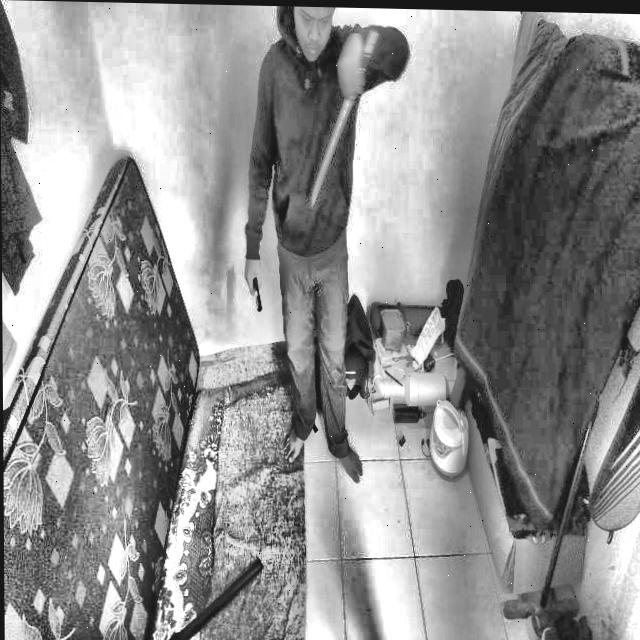pisau: (299, 29, 380, 212)
